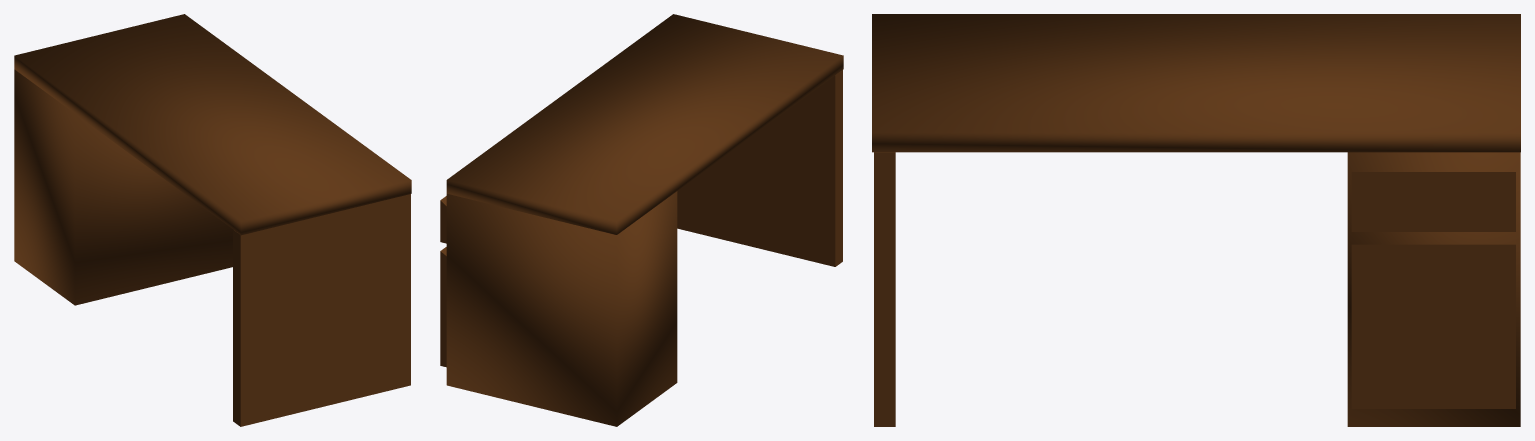
Rendered from Lehrertisch.fbx.
The picture shows the model from 3 angles, left to right: view 1: azimuth 30°, elevation 25°; view 2: azimuth 150°, elevation 25°; view 3: azimuth 270°, elevation 25°; orthographic projection. The views are drawn at different scales.
Parts seen in each view (by area): view 1: Cube.002, Cube.001, Cube; view 2: Cube, Cube.002, Cube.001, Cube.004; view 3: Cube.002, Cube.004, Cube, Cube.003, Cube.001.
Part boxes in pixels (x1,y1,x2,y2): Cube.002: (14, 14, 411, 235); Cube.001: (233, 194, 410, 426); Cube: (14, 69, 232, 305); Cube: (446, 191, 677, 426); Cube.002: (446, 14, 843, 234); Cube.001: (677, 70, 842, 266); Cube.004: (440, 247, 446, 367); Cube.002: (872, 14, 1520, 152); Cube.004: (1351, 244, 1515, 408); Cube: (1347, 152, 1520, 426); Cube.003: (1351, 172, 1515, 231); Cube.001: (874, 152, 895, 426).
Bounding box in the file's own units: 0.6808 × 0.7506 × 1.5.
